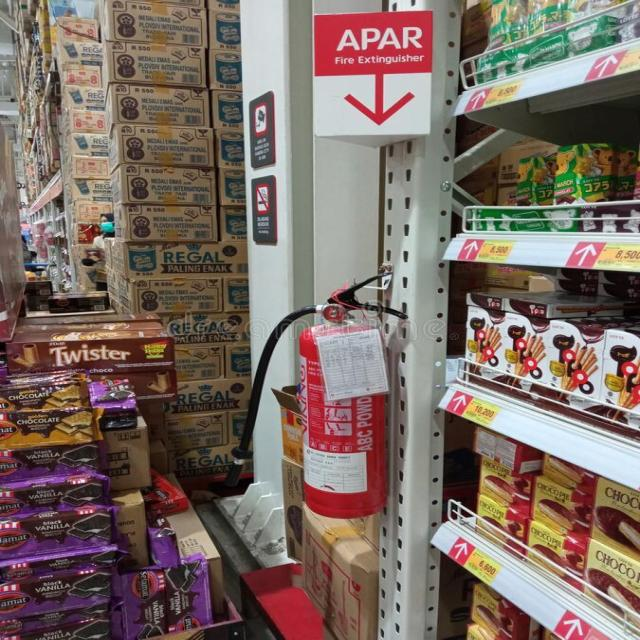fire_extinguisher: (223, 267, 415, 523)
